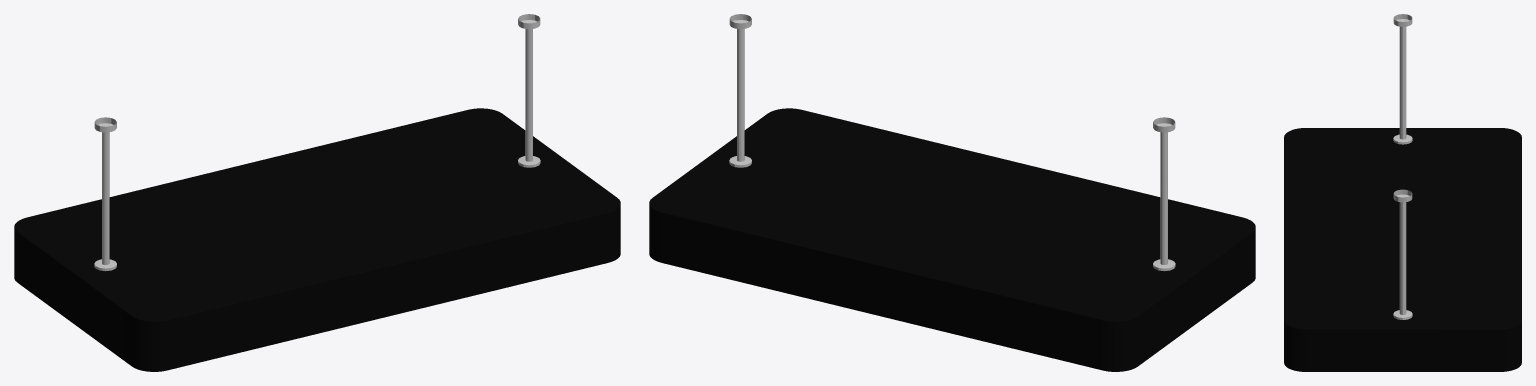
File: Office_-_Light_fixture_1.001.gltf
The picture shows the model from 3 angles, left to right: view 1: azimuth 30°, elevation 25°; view 2: azimuth 150°, elevation 25°; view 3: azimuth 270°, elevation 25°; orthographic projection. The views are drawn at different scales.
Parts seen in each view (by area): view 1: Office - Light fixture 1_mesh; view 2: Office - Light fixture 1_mesh; view 3: Office - Light fixture 1_mesh.
Boxes of the visible parts, x1,y1,x2,y2 form: Office - Light fixture 1_mesh: (14, 14, 620, 371); Office - Light fixture 1_mesh: (649, 14, 1255, 371); Office - Light fixture 1_mesh: (1284, 14, 1521, 371).
Size of what is drawn, in the model's own units: 2 by 0.7775 by 1.
